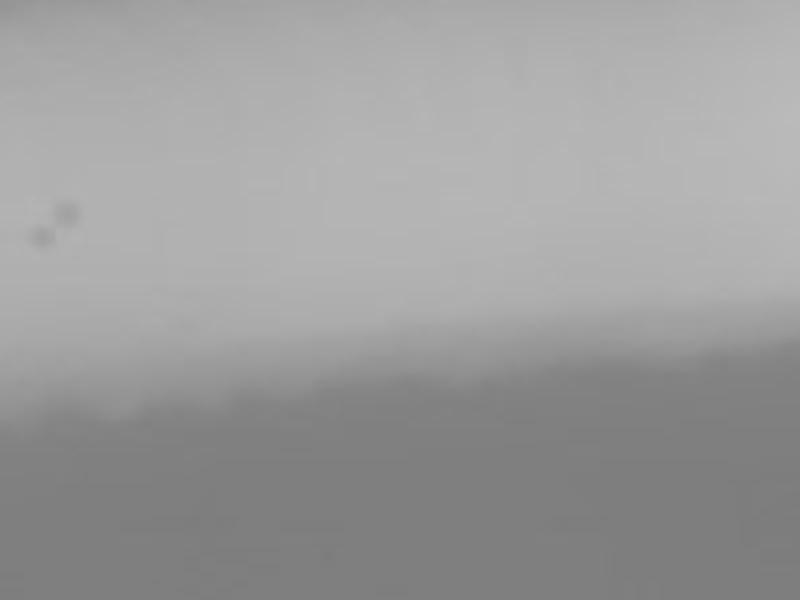defect: (25, 225, 58, 254), (57, 202, 85, 228)
